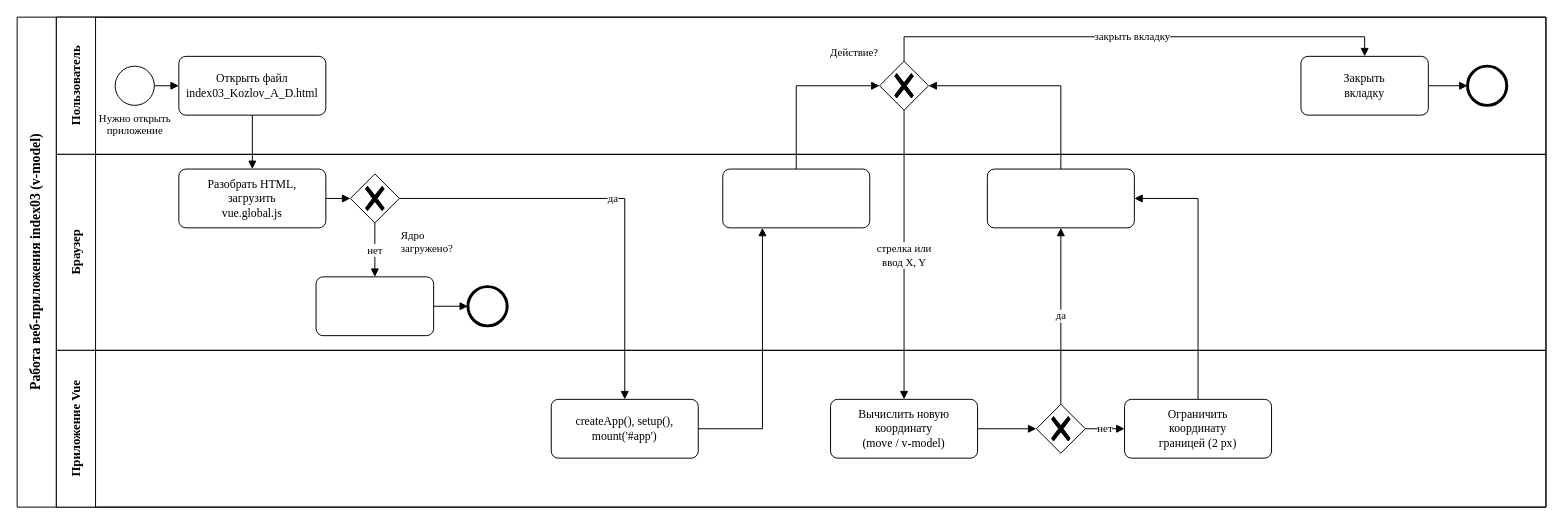
Image size: 1563x524. Some labels were removed from this diagram. The shapes that lost their labels are listed below. From the top down, each one's centre as x and y in pixels, then its label:
At pixel 1487 85: "Работа завершена".
At pixel 796 198: "Отобразить область с квадратом в случайной позиции".
At pixel 1060 198: "Переместить квадрат, обновить поля X, Y".
At pixel 374 306: "Вывести шаблон без подстановки".
At pixel 487 306: "Приложение не запущено".
At pixel 1060 428: "В пределах области?".
